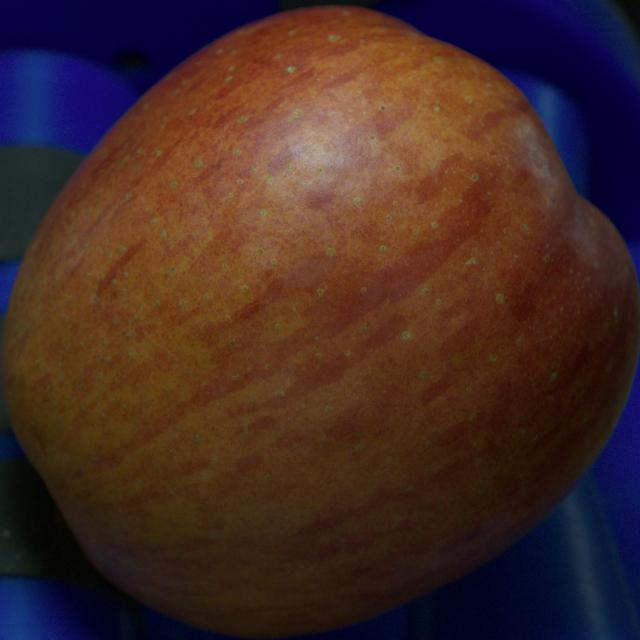apple: (2, 6, 639, 636)
